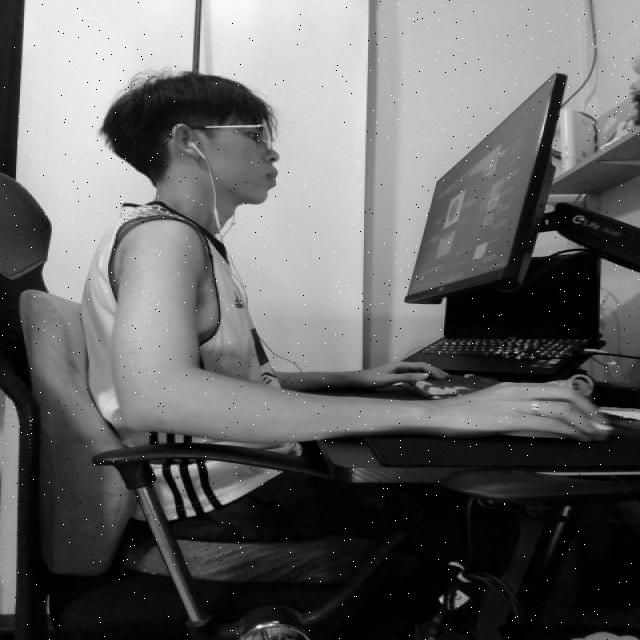Good: (77, 64, 368, 522)
